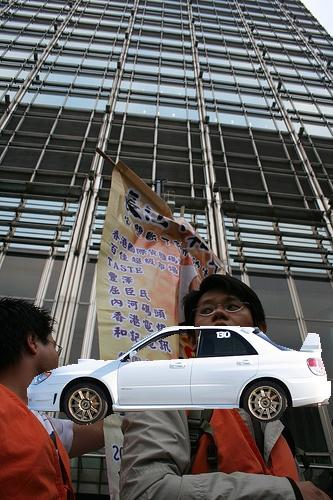tampered: (28, 327, 331, 425)
